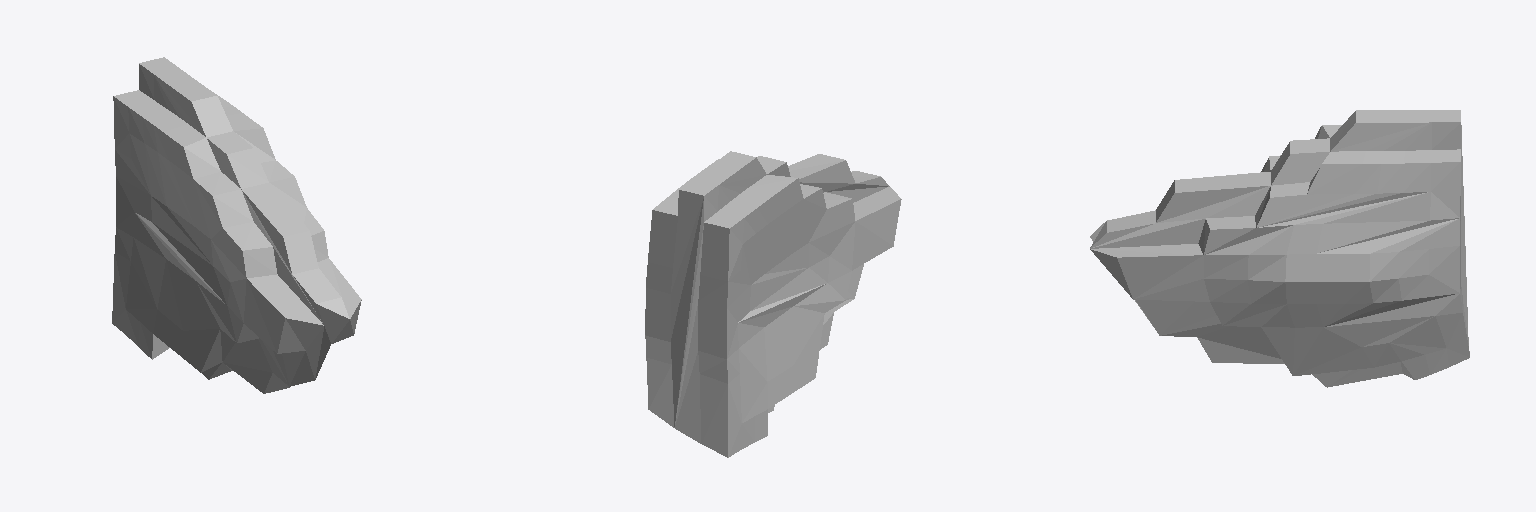
The model's file is HeavyDoubleShooterBot_LOD0-0.obj.
3 views of the same model, side by side, from view 1: azimuth 30°, elevation 25°; view 2: azimuth 150°, elevation 25°; view 3: azimuth 270°, elevation 25° (orthographic).
Parts seen in each view (by area): view 1: HeavyDoubleShooterBot_LOD0-0; view 2: HeavyDoubleShooterBot_LOD0-0; view 3: HeavyDoubleShooterBot_LOD0-0.
Boxes of the visible parts, x1=… form: HeavyDoubleShooterBot_LOD0-0: x1=112, y1=57, x2=361, y2=393; HeavyDoubleShooterBot_LOD0-0: x1=645, y1=151, x2=901, y2=457; HeavyDoubleShooterBot_LOD0-0: x1=1090, y1=110, x2=1469, y2=387.
Size of the model in its own units: 0.4092 by 0.9973 by 1.29.